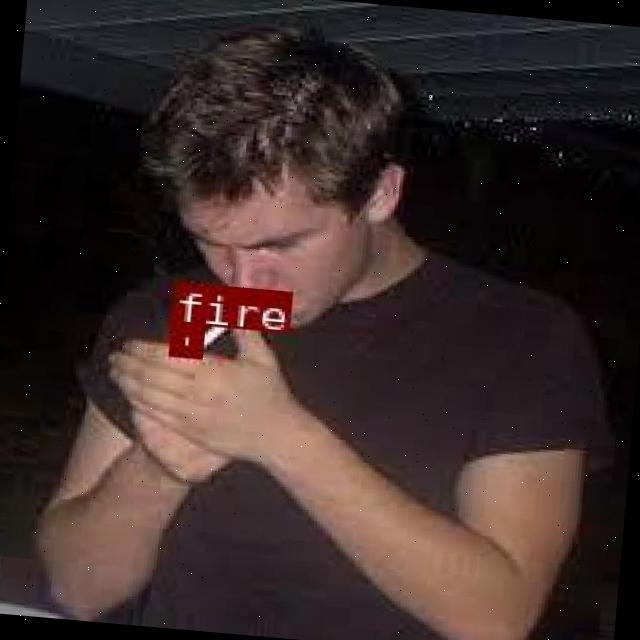fire: (166, 322, 201, 354)
